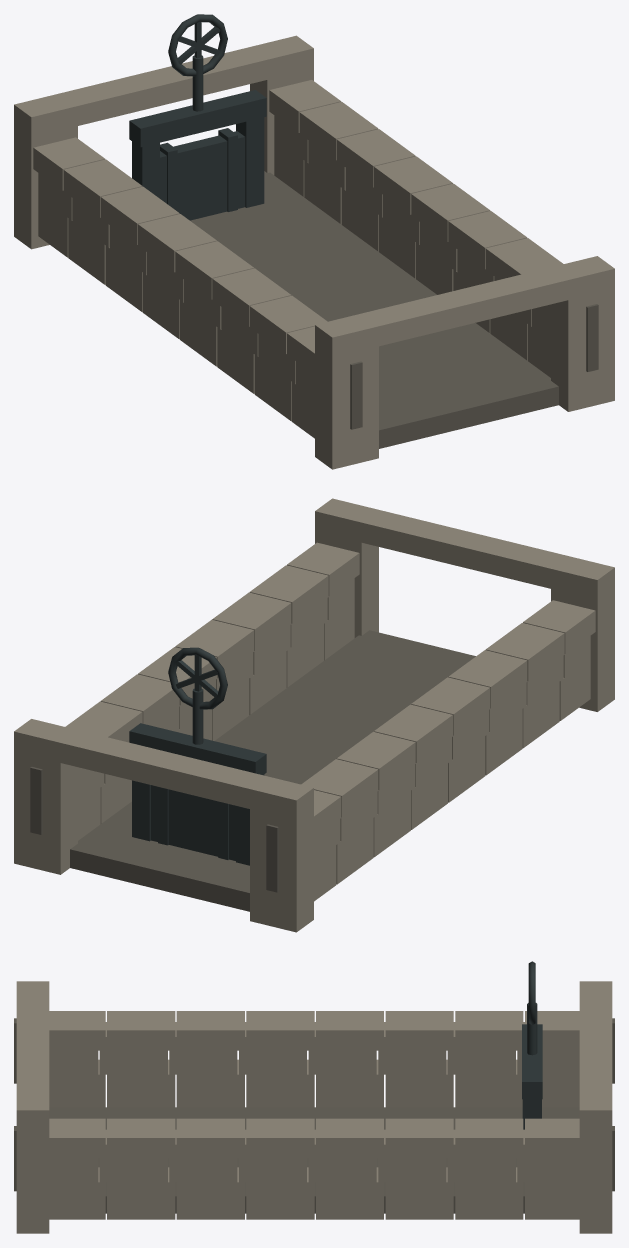
File: irrigation-canal.source.glb
3 views of the same model, one above another, from view 1: azimuth 30°, elevation 25°; view 2: azimuth 150°, elevation 25°; view 3: azimuth 270°, elevation 25° (orthographic). The views are drawn at different scales.
Parts seen in each view (by area): view 1: irrigation-canal-dry-channel-bed-mesh, irrigation-canal-north-socket-header-mesh, irrigation-canal-north-left-socket-post-mesh, irrigation-canal-north-right-socket-post-mesh, irrigation-canal-south-socket-header-mesh, irrigation-canal-south-left-socket-post-mesh, irrigation-canal-sluice-gate-panel-mesh, irrigation-canal-sluice-upper-rail-mesh, irrigation-canal-south-right-socket-post-mesh, irrigation-canal-left-cap-5-mesh, irrigation-canal-left-cap-6-mesh, irrigation-canal-right-cap-3-mesh (+48 smaller); view 2: irrigation-canal-dry-channel-bed-mesh, irrigation-canal-south-left-socket-post-mesh, irrigation-canal-south-socket-header-mesh, irrigation-canal-north-socket-header-mesh, irrigation-canal-south-right-socket-post-mesh, irrigation-canal-north-left-socket-post-mesh, irrigation-canal-north-right-socket-post-mesh, irrigation-canal-sluice-gate-panel-mesh, irrigation-canal-sluice-upper-rail-mesh, irrigation-canal-left-cap-3-mesh, irrigation-canal-left-cap-4-mesh, irrigation-canal-left-cap-5-mesh (+46 smaller); view 3: irrigation-canal-dry-channel-bed-mesh, irrigation-canal-north-right-socket-post-mesh, irrigation-canal-south-right-socket-post-mesh, irrigation-canal-north-socket-header-mesh, irrigation-canal-south-socket-header-mesh, irrigation-canal-right-cap-5-mesh, irrigation-canal-right-cap-2-mesh, irrigation-canal-right-cap-3-mesh, irrigation-canal-right-cap-6-mesh, irrigation-canal-right-cap-7-mesh, irrigation-canal-right-cap-4-mesh, irrigation-canal-left-cap-3-mesh (+47 smaller).
Part boxes in pixels (x1,y1,x2,y2): irrigation-canal-dry-channel-bed-mesh: (190, 171, 558, 448); irrigation-canal-north-socket-header-mesh: (316, 258, 614, 355); irrigation-canal-north-left-socket-post-mesh: (315, 313, 378, 469); irrigation-canal-north-right-socket-post-mesh: (551, 256, 614, 411); irrigation-canal-south-socket-header-mesh: (17, 36, 313, 136); irrigation-canal-south-left-socket-post-mesh: (14, 93, 77, 249); irrigation-canal-sluice-gate-panel-mesh: (160, 131, 245, 220); irrigation-canal-sluice-upper-rail-mesh: (129, 90, 266, 147); irrigation-canal-south-right-socket-post-mesh: (250, 35, 313, 174); irrigation-canal-left-cap-5-mesh: (175, 241, 254, 299); irrigation-canal-left-cap-6-mesh: (212, 268, 291, 326); irrigation-canal-right-cap-3-mesh: (336, 129, 415, 187); irrigation-canal-dry-channel-bed-mesh: (70, 630, 475, 911); irrigation-canal-south-left-socket-post-mesh: (250, 776, 313, 932); irrigation-canal-south-socket-header-mesh: (14, 719, 310, 814); irrigation-canal-north-socket-header-mesh: (316, 499, 601, 599); irrigation-canal-south-right-socket-post-mesh: (14, 719, 77, 874); irrigation-canal-north-left-socket-post-mesh: (551, 556, 614, 711); irrigation-canal-north-right-socket-post-mesh: (315, 498, 378, 637); irrigation-canal-sluice-gate-panel-mesh: (151, 785, 235, 860); irrigation-canal-sluice-upper-rail-mesh: (129, 723, 266, 774); irrigation-canal-left-cap-3-mesh: (336, 731, 415, 790); irrigation-canal-left-cap-4-mesh: (374, 704, 452, 762); irrigation-canal-left-cap-5-mesh: (411, 677, 490, 735); irrigation-canal-dry-channel-bed-mesh: (49, 1107, 579, 1213); irrigation-canal-north-right-socket-post-mesh: (16, 1089, 49, 1233); irrigation-canal-south-right-socket-post-mesh: (579, 1089, 612, 1233); irrigation-canal-north-socket-header-mesh: (16, 981, 49, 1088); irrigation-canal-south-socket-header-mesh: (579, 981, 612, 1088); irrigation-canal-right-cap-5-mesh: (246, 1118, 314, 1158); irrigation-canal-right-cap-2-mesh: (455, 1118, 523, 1158); irrigation-canal-right-cap-3-mesh: (385, 1118, 453, 1158); irrigation-canal-right-cap-6-mesh: (176, 1118, 244, 1158); irrigation-canal-right-cap-7-mesh: (107, 1118, 175, 1158); irrigation-canal-right-cap-4-mesh: (316, 1118, 383, 1158); irrigation-canal-left-cap-3-mesh: (385, 1011, 453, 1050).
Size of the model in its own units: 2.06 by 1.53 by 4.06.
